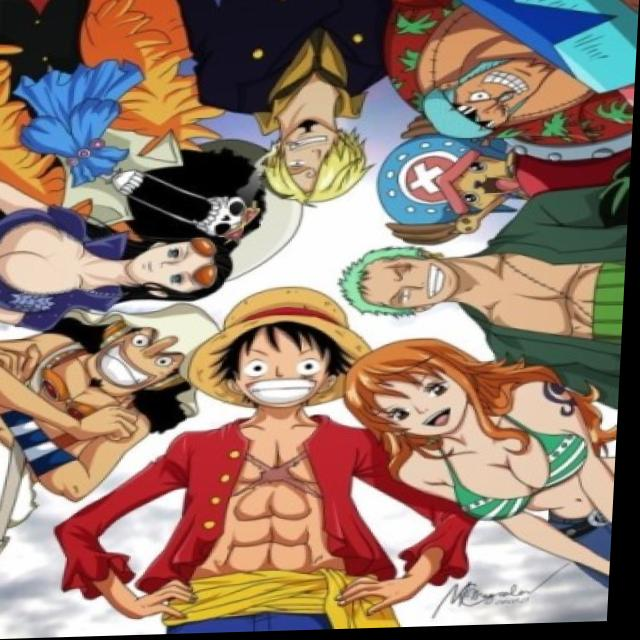Blook: (89, 118, 287, 250)
Franky: (354, 126, 550, 253), (409, 31, 573, 139)
Luffy: (182, 282, 400, 418)
Nami: (332, 331, 543, 450)
NicoRobin: (79, 231, 279, 308)
Sangdi: (235, 105, 396, 216)
Usopp: (77, 292, 247, 407)
Zoro: (323, 239, 492, 324)
